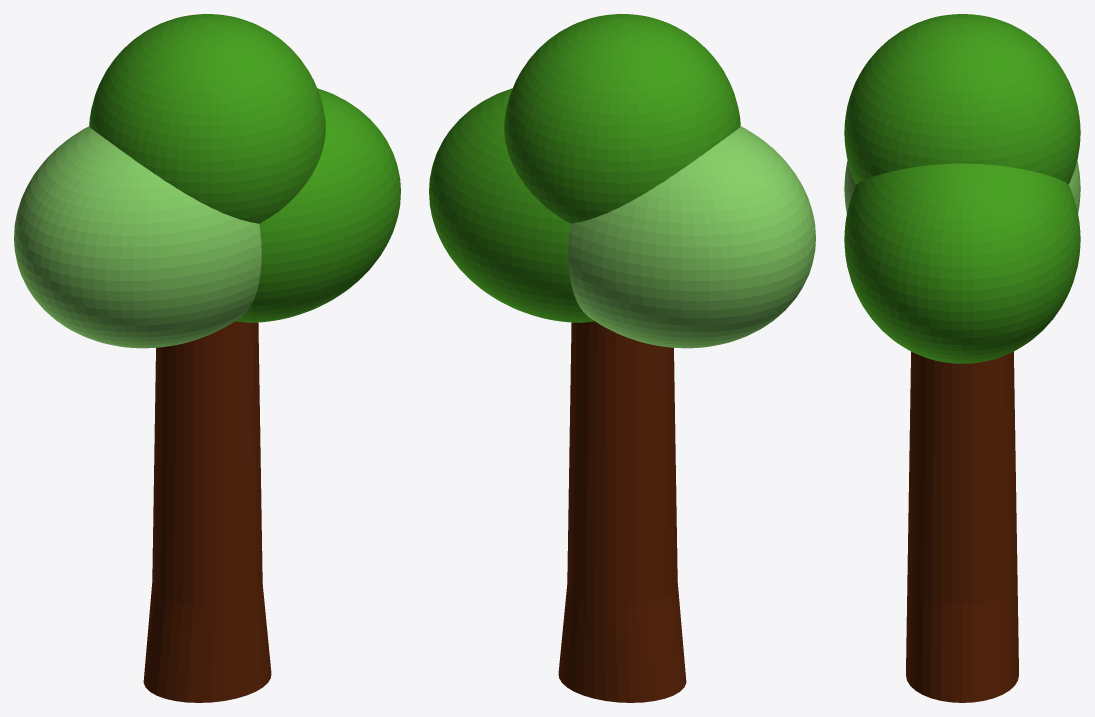
File: Tree_leaf_2.fbx
3 views of the same model, side by side, from view 1: azimuth 30°, elevation 25°; view 2: azimuth 150°, elevation 25°; view 3: azimuth 270°, elevation 25° (orthographic).
Visible parts, largest first — view 1: Cylinder, Sphere.001, Sphere, Sphere.002; view 2: Cylinder, Sphere.001, Sphere, Sphere.002; view 3: Sphere.002, Cylinder, Sphere, Sphere.001.
Part boxes in pixels (x1=…): Cylinder: x1=143, y1=321, x2=271, y2=702; Sphere.001: x1=14, y1=126, x2=261, y2=348; Sphere: x1=89, y1=14, x2=325, y2=223; Sphere.002: x1=235, y1=88, x2=400, y2=322; Cylinder: x1=558, y1=321, x2=686, y2=702; Sphere.001: x1=568, y1=126, x2=815, y2=348; Sphere: x1=504, y1=14, x2=740, y2=223; Sphere.002: x1=429, y1=88, x2=594, y2=322; Sphere.002: x1=844, y1=163, x2=1080, y2=363; Cylinder: x1=906, y1=351, x2=1018, y2=702; Sphere: x1=844, y1=14, x2=1080, y2=184; Sphere.001: x1=844, y1=161, x2=1080, y2=213.
Size of the model in its own units: 694 by 1200 by 395.
